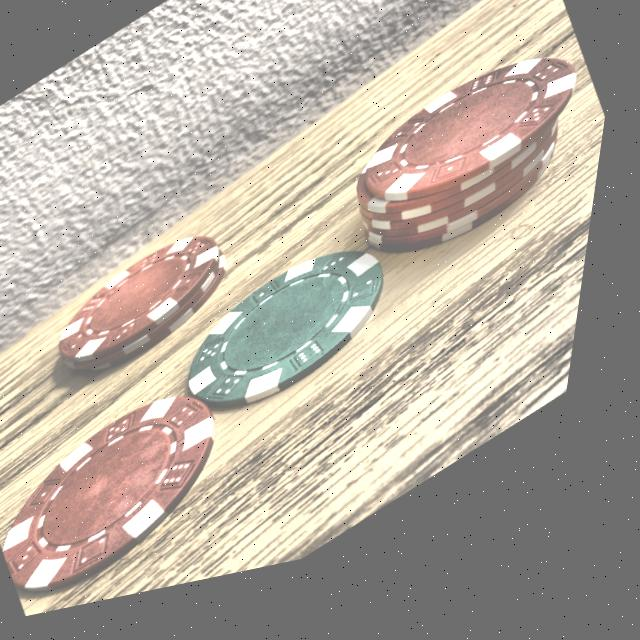Chip: (286, 0, 628, 361), (0, 357, 284, 631), (152, 207, 438, 474), (19, 208, 272, 428)
